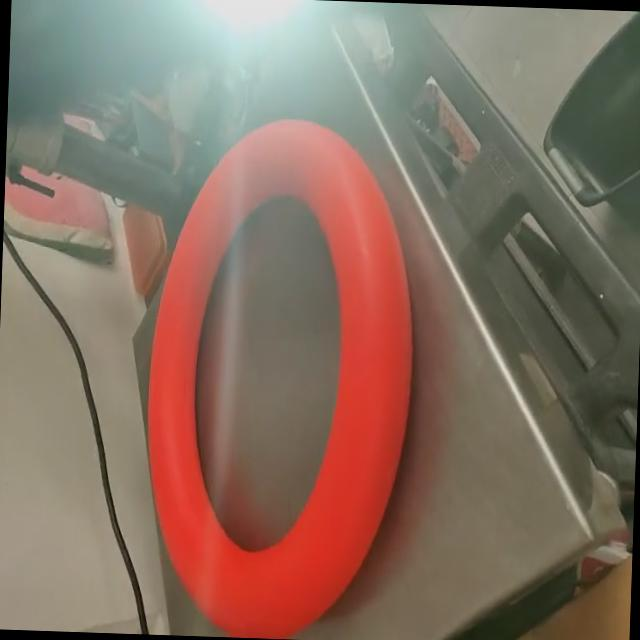note: (131, 104, 428, 640)
